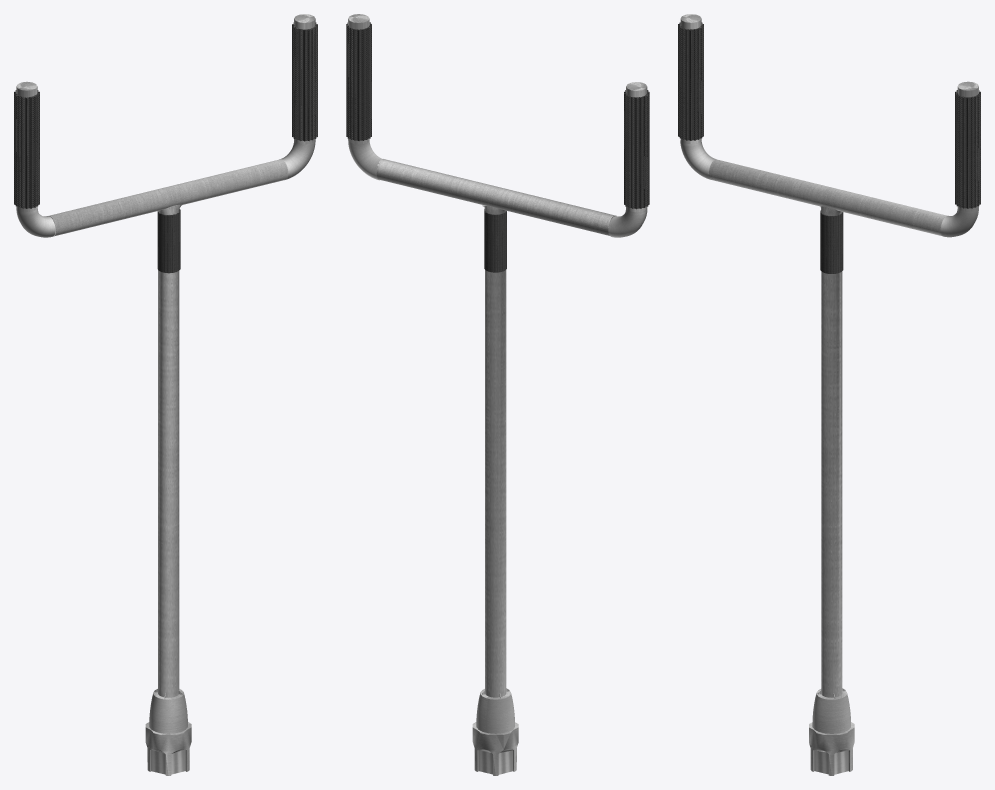
The model's file is 套筒扳手.glb.
3 renders of one model, left to right at view 1: azimuth 30°, elevation 25°; view 2: azimuth 150°, elevation 25°; view 3: azimuth 330°, elevation 25°, orthographic.
Parts seen in each view (by area): view 1: 套筒扳手7, 套筒扳手8, 套筒扳手10, 套筒扳手11, 套筒扳手5, 套筒扳手9, 套筒扳手6, 套筒扳手12, 套筒扳手13; view 2: 套筒扳手7, 套筒扳手8, 套筒扳手11, 套筒扳手10, 套筒扳手5, 套筒扳手6, 套筒扳手9, 套筒扳手12, 套筒扳手13; view 3: 套筒扳手7, 套筒扳手8, 套筒扳手10, 套筒扳手11, 套筒扳手5, 套筒扳手9, 套筒扳手6, 套筒扳手13, 套筒扳手12.
Part boxes in pixels (x1=…): 套筒扳手7: x1=158, y1=204, x2=181, y2=697; 套筒扳手8: x1=48, y1=159, x2=288, y2=236; 套筒扳手10: x1=292, y1=22, x2=317, y2=141; 套筒扳手11: x1=14, y1=90, x2=39, y2=208; 套筒扳手5: x1=145, y1=722, x2=191, y2=775; 套筒扳手9: x1=157, y1=209, x2=180, y2=273; 套筒扳手6: x1=149, y1=689, x2=187, y2=733; 套筒扳手12: x1=16, y1=81, x2=55, y2=237; 套筒扳手13: x1=279, y1=14, x2=315, y2=179; 套筒扳手7: x1=482, y1=205, x2=506, y2=697; 套筒扳手8: x1=376, y1=159, x2=616, y2=235; 套筒扳手11: x1=624, y1=90, x2=649, y2=209; 套筒扳手10: x1=346, y1=22, x2=371, y2=141; 套筒扳手5: x1=472, y1=722, x2=518, y2=775; 套筒扳手6: x1=476, y1=689, x2=514, y2=733; 套筒扳手9: x1=484, y1=208, x2=506, y2=272; 套筒扳手12: x1=608, y1=82, x2=647, y2=237; 套筒扳手13: x1=348, y1=14, x2=381, y2=180; 套筒扳手7: x1=820, y1=206, x2=842, y2=697; 套筒扳手8: x1=709, y1=159, x2=947, y2=236; 套筒扳手10: x1=955, y1=90, x2=980, y2=208; 套筒扳手11: x1=678, y1=22, x2=703, y2=140; 套筒扳手5: x1=809, y1=722, x2=854, y2=775; 套筒扳手9: x1=820, y1=210, x2=843, y2=273; 套筒扳手6: x1=812, y1=689, x2=850, y2=733; 套筒扳手13: x1=940, y1=81, x2=978, y2=237; 套筒扳手12: x1=680, y1=14, x2=715, y2=179.
Bounding box in the file's own units: 0.9856 × 2.24 × 0.1301.
Materials: 2 (2 with a texture image).
